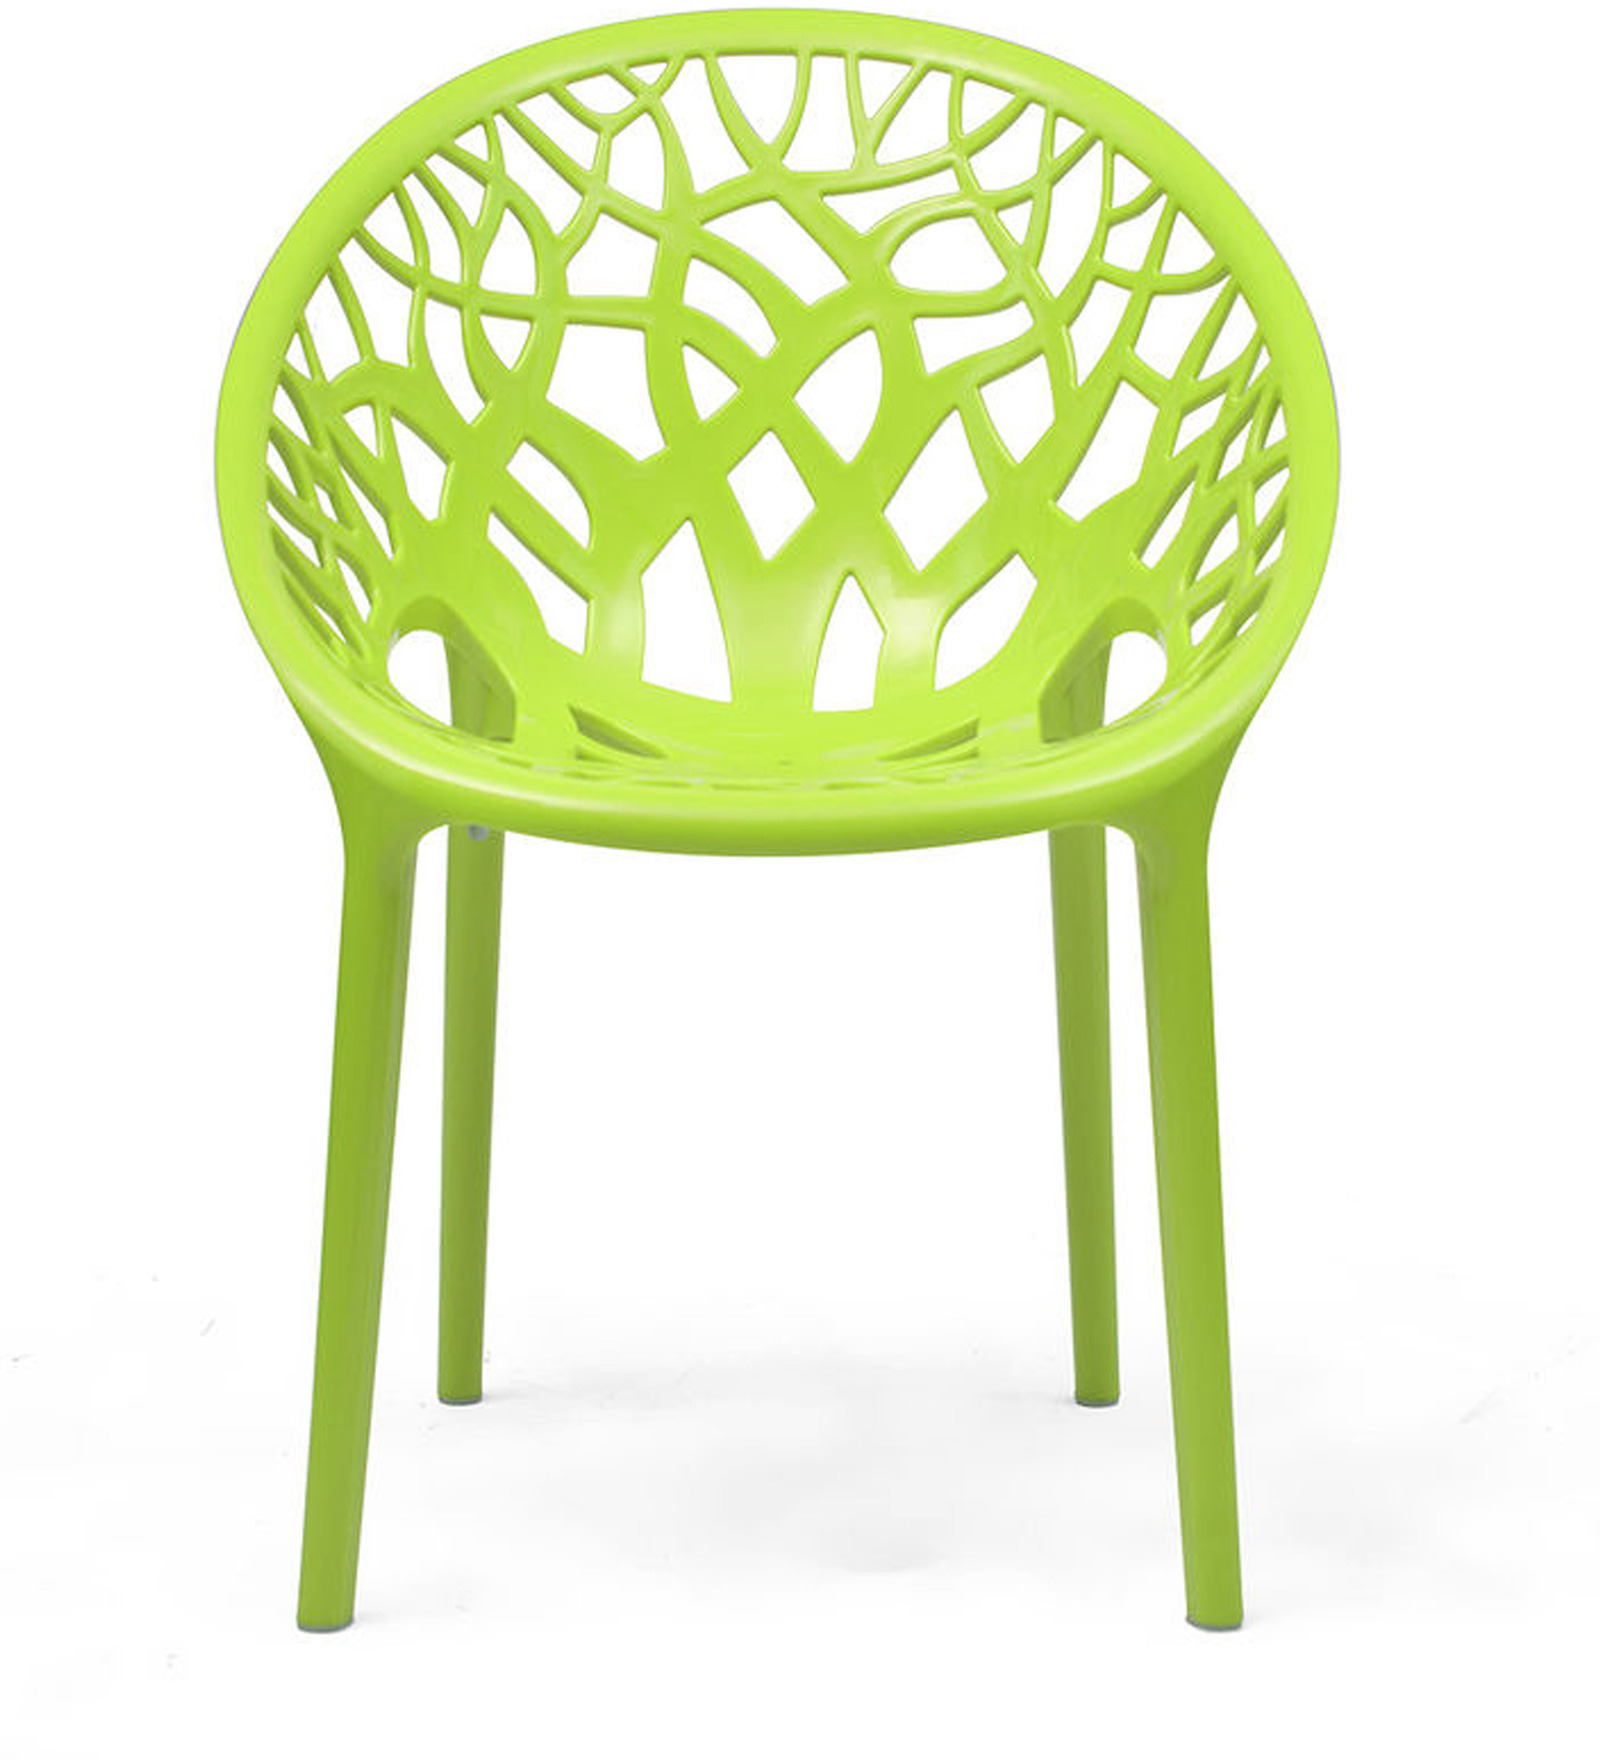Crystal Designer Chair in Lime Green Colour by Nilkamal: (166, 2, 1373, 1680)
